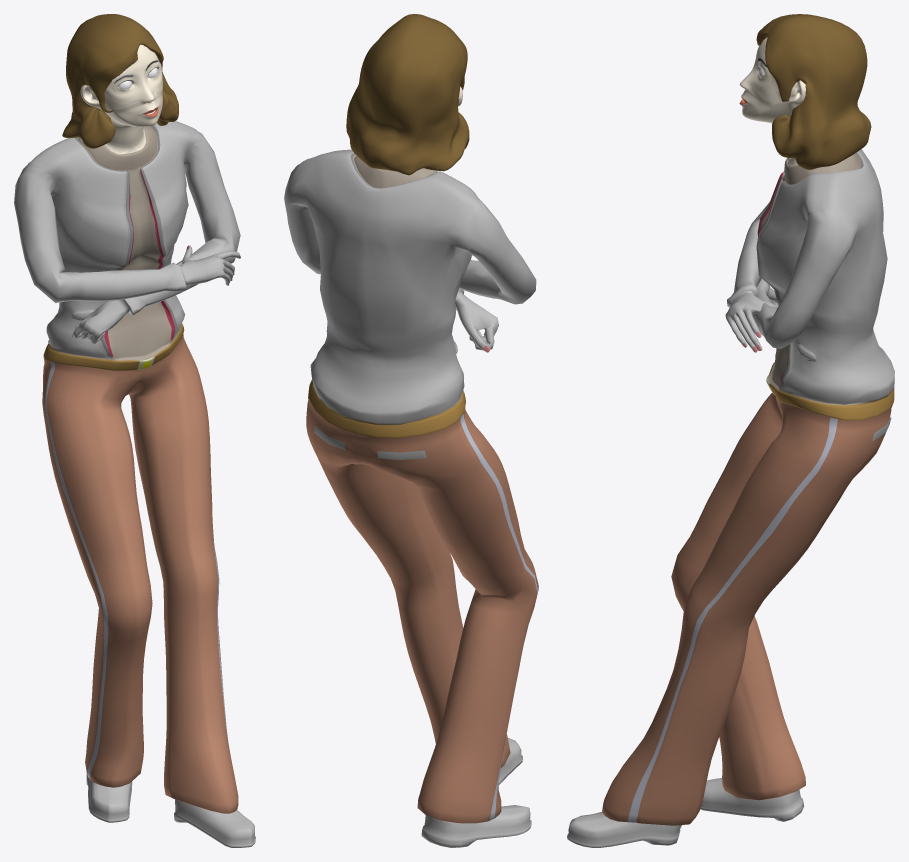
The model's file is Leaning Talking.fbx.
3 views of the same model, side by side, from view 1: azimuth 30°, elevation 25°; view 2: azimuth 150°, elevation 25°; view 3: azimuth 270°, elevation 25° (orthographic). The views are drawn at different scales.
Visible parts, largest first — view 1: Character2; view 2: Character2; view 3: Character2.
Part boxes in pixels (box(x1,y1,x2,y2)): Character2: box(14, 14, 255, 847); Character2: box(284, 14, 538, 847); Character2: box(567, 14, 894, 847).
Size of the model in its own units: 28.16 by 96.86 by 35.21.
